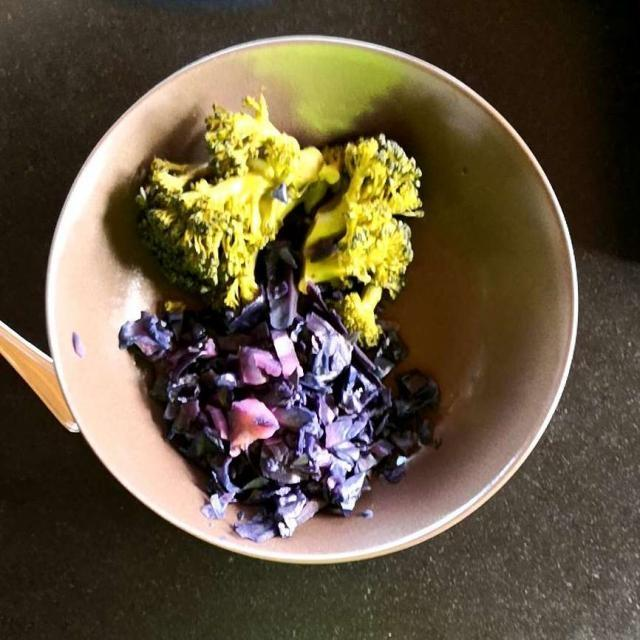broccoli: (146, 111, 425, 340)
cabbage: (126, 282, 436, 536)
